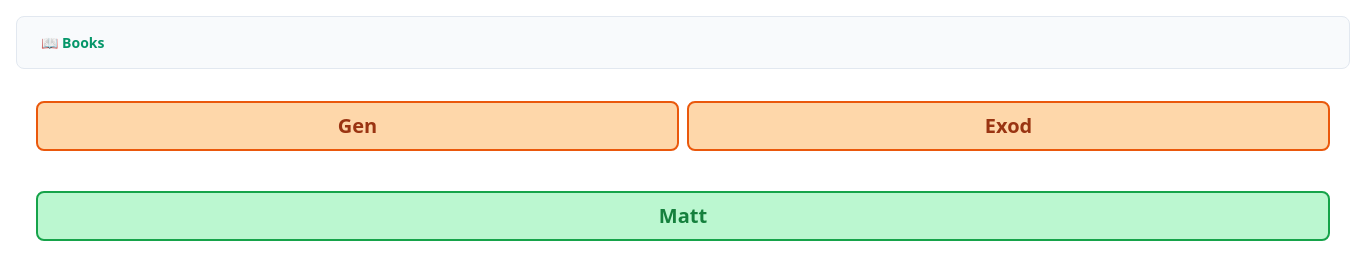
it: Navigation › Chapter Selection Flow › navigates to verse selection when chapter is clicked
# Select Genesis
Click the button "Gen".
click(358, 126)  # box [36, 100, 679, 150]
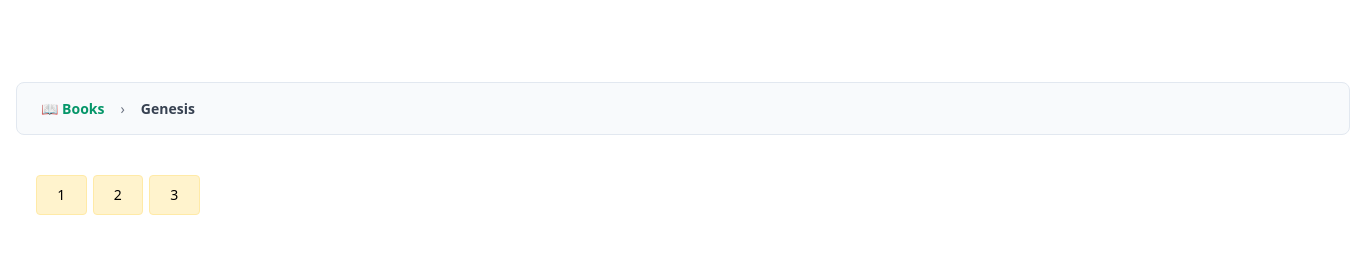
# Select Chapter 1
Click the button "1".
click(61, 194)  # box [36, 174, 86, 214]
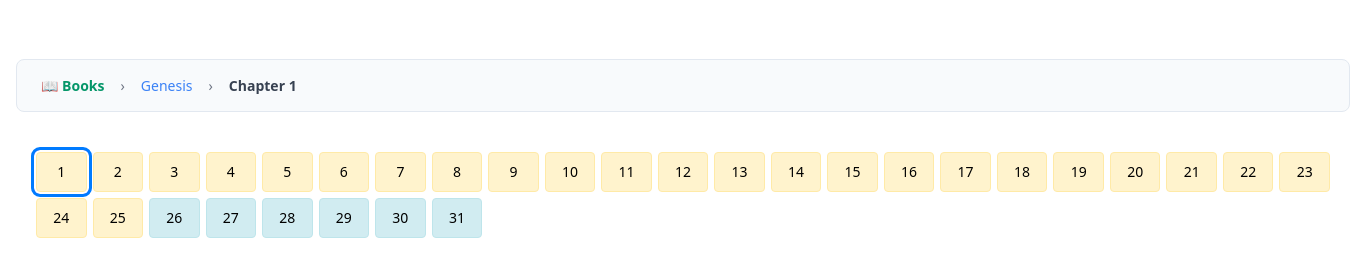
Expected: the button "1" is shown, [36, 152, 86, 192]
Expected: the button "Genesis" is shown, [133, 72, 200, 98]
Expected: the button "31" is shown, [432, 198, 482, 238]
